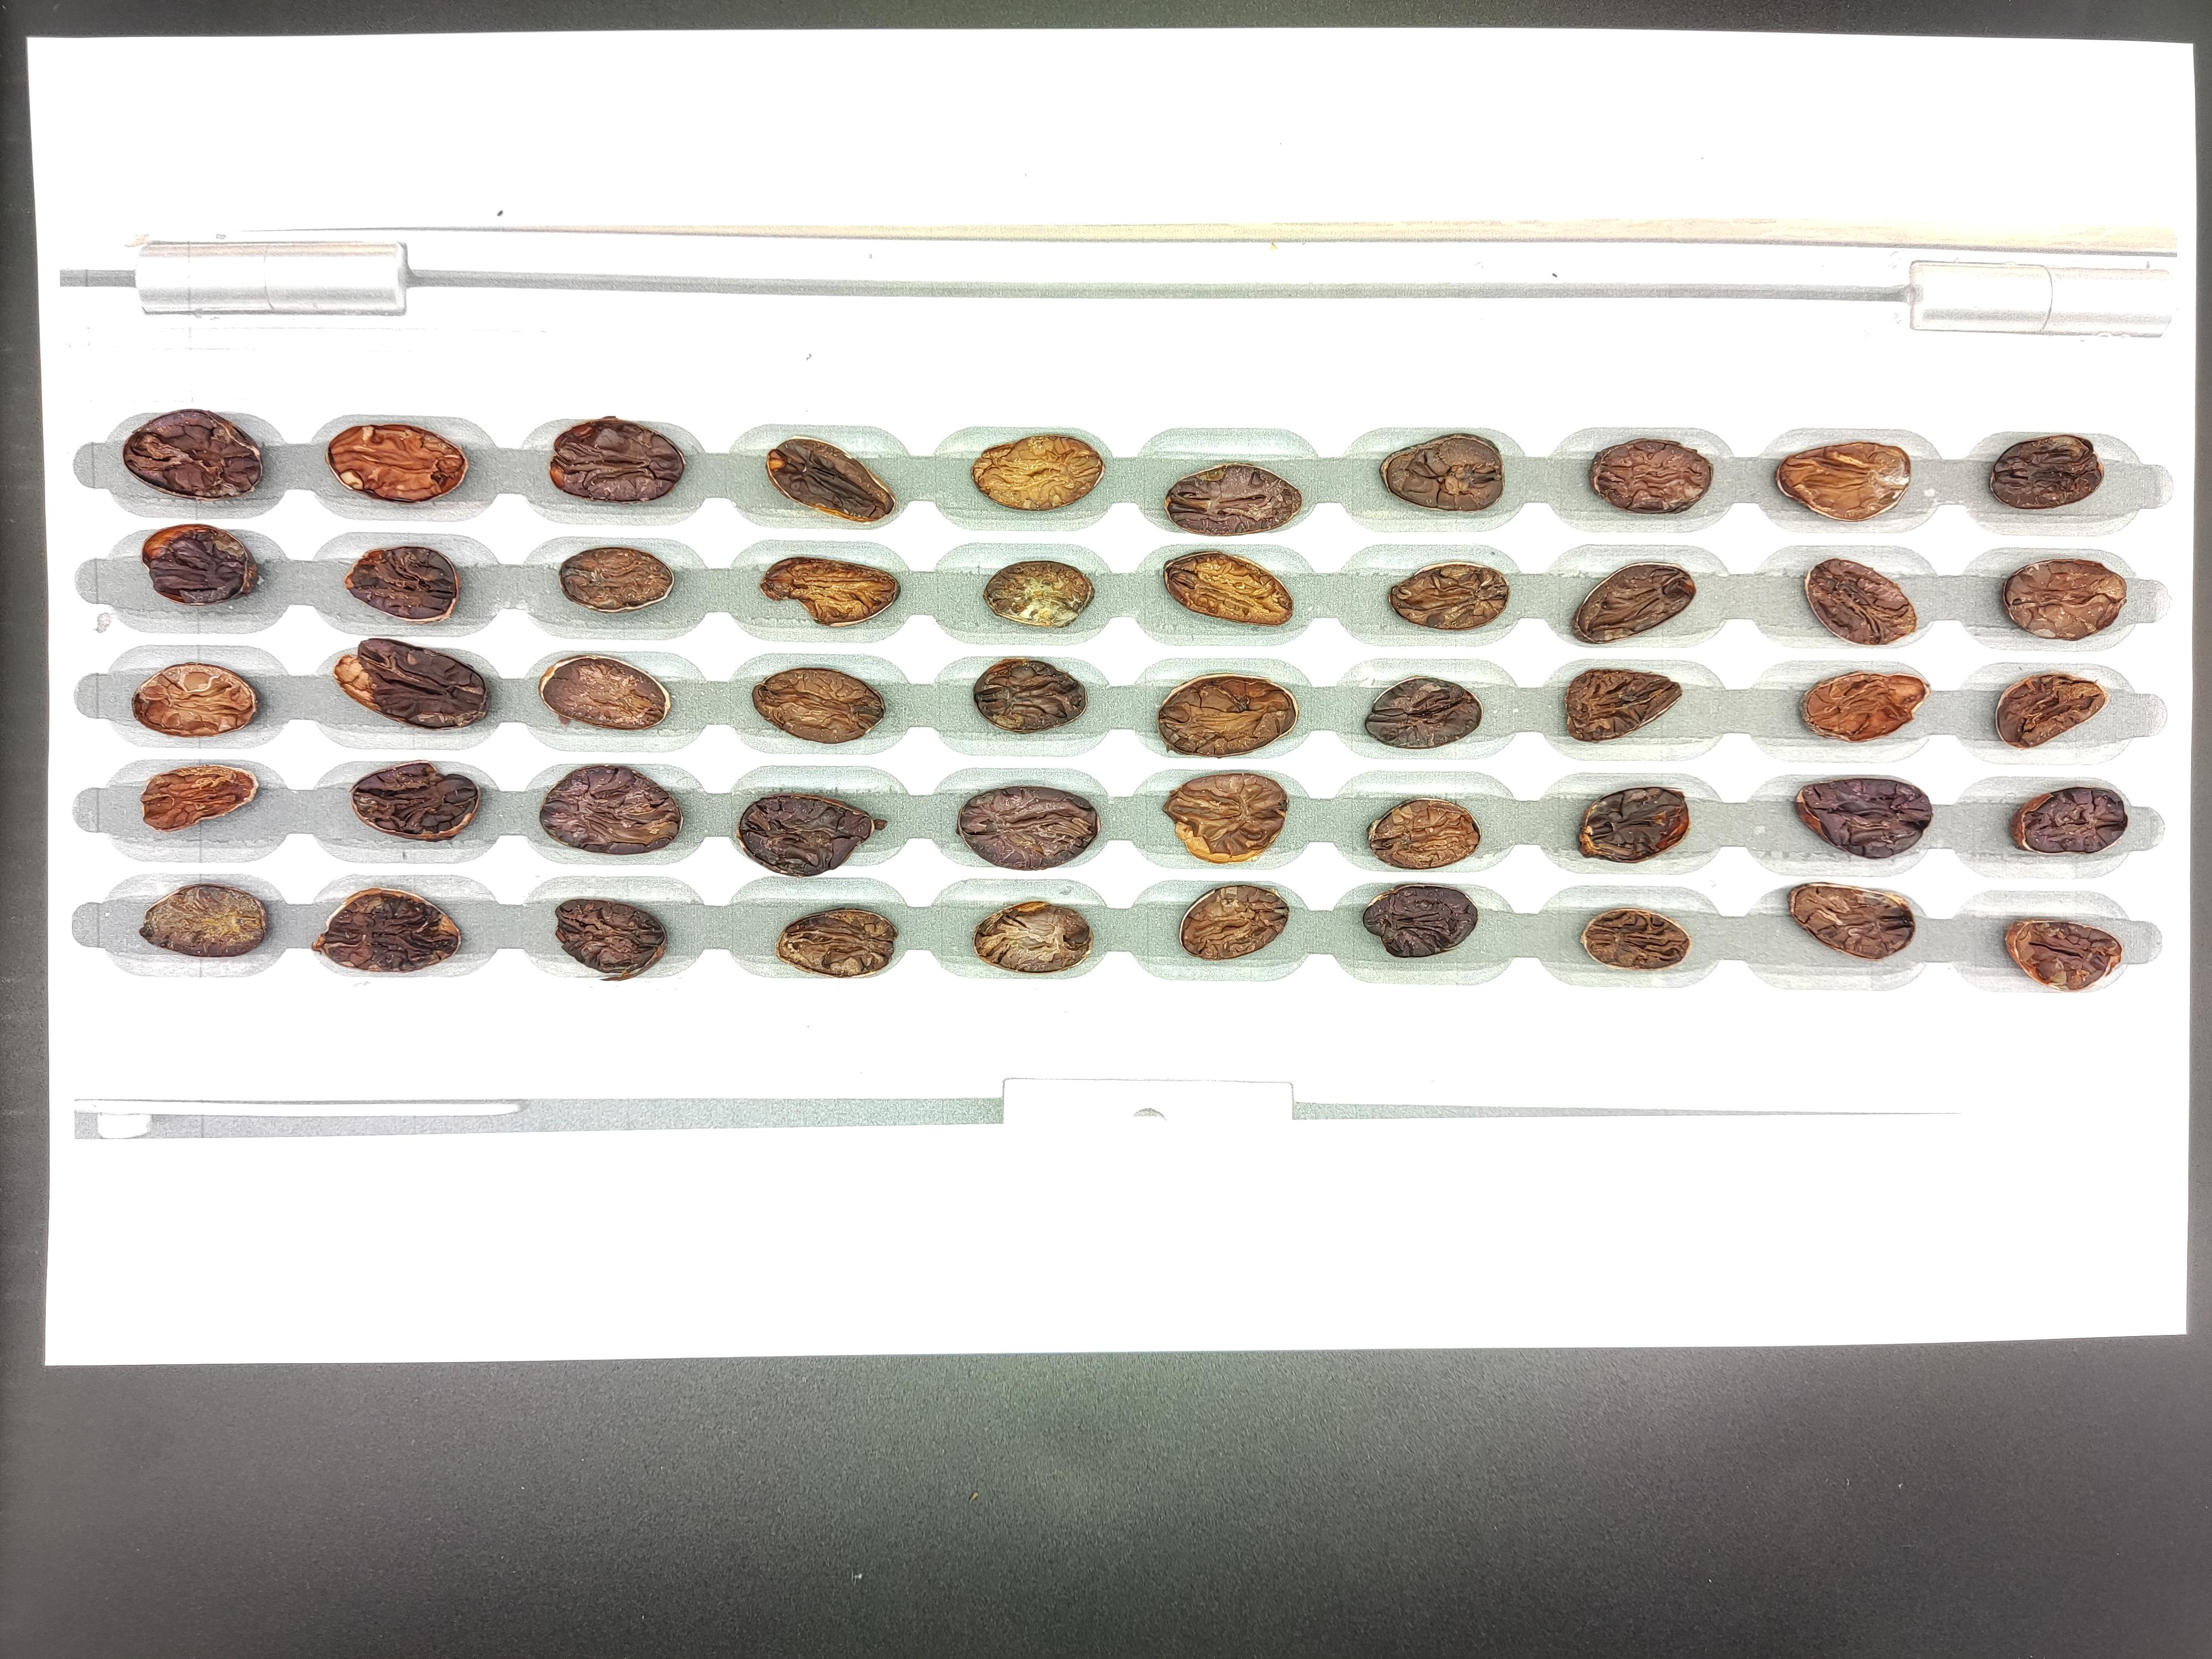Brown - G1: (162, 1021, 246, 1070), (592, 1202, 664, 1256), (394, 1270, 467, 1316), (70, 1197, 138, 1239), (709, 1094, 777, 1134)
Brown - G2: (383, 1093, 467, 1136), (918, 1148, 991, 1197), (590, 1089, 669, 1134), (796, 1147, 867, 1194), (64, 1147, 136, 1192), (1022, 1276, 1089, 1321), (601, 1260, 664, 1305)
Brown - G3: (589, 1154, 669, 1202), (1021, 1093, 1094, 1143), (493, 1028, 570, 1075), (381, 1148, 458, 1194), (921, 1091, 984, 1145), (913, 1258, 984, 1305), (810, 1032, 880, 1077), (1017, 1152, 1082, 1201), (697, 1215, 763, 1258), (495, 1269, 563, 1310)
Brown - G4: (282, 1086, 350, 1127)
Insect-damaged: (68, 1260, 143, 1305)
Mouldy: (906, 1032, 982, 1080), (502, 1094, 564, 1133)
Partly Purple - G1: (176, 1197, 253, 1244), (172, 1087, 240, 1133)
Partly Purple - G2: (273, 1197, 354, 1253), (277, 1021, 355, 1070)
Partly Purple - G3: (592, 1046, 671, 1087)
Partly Purple - G4: (272, 1143, 350, 1187)
Total Purple - G2: (916, 1206, 993, 1253)
Total Purple - G3: (488, 1209, 568, 1262), (374, 1213, 456, 1263), (693, 1260, 759, 1305), (1026, 1209, 1090, 1253)
Very Dark Brown - G1: (167, 1133, 254, 1190), (160, 1262, 244, 1314), (68, 1073, 138, 1124), (806, 1272, 869, 1310)
Very Dark Brown - G2: (59, 1012, 143, 1072), (390, 1030, 462, 1084), (803, 1209, 869, 1255), (495, 1145, 563, 1188), (280, 1269, 345, 1314), (1015, 1028, 1080, 1073)
Very Dark Brown - G3: (803, 1093, 871, 1145), (704, 1030, 775, 1073), (697, 1152, 763, 1195)
